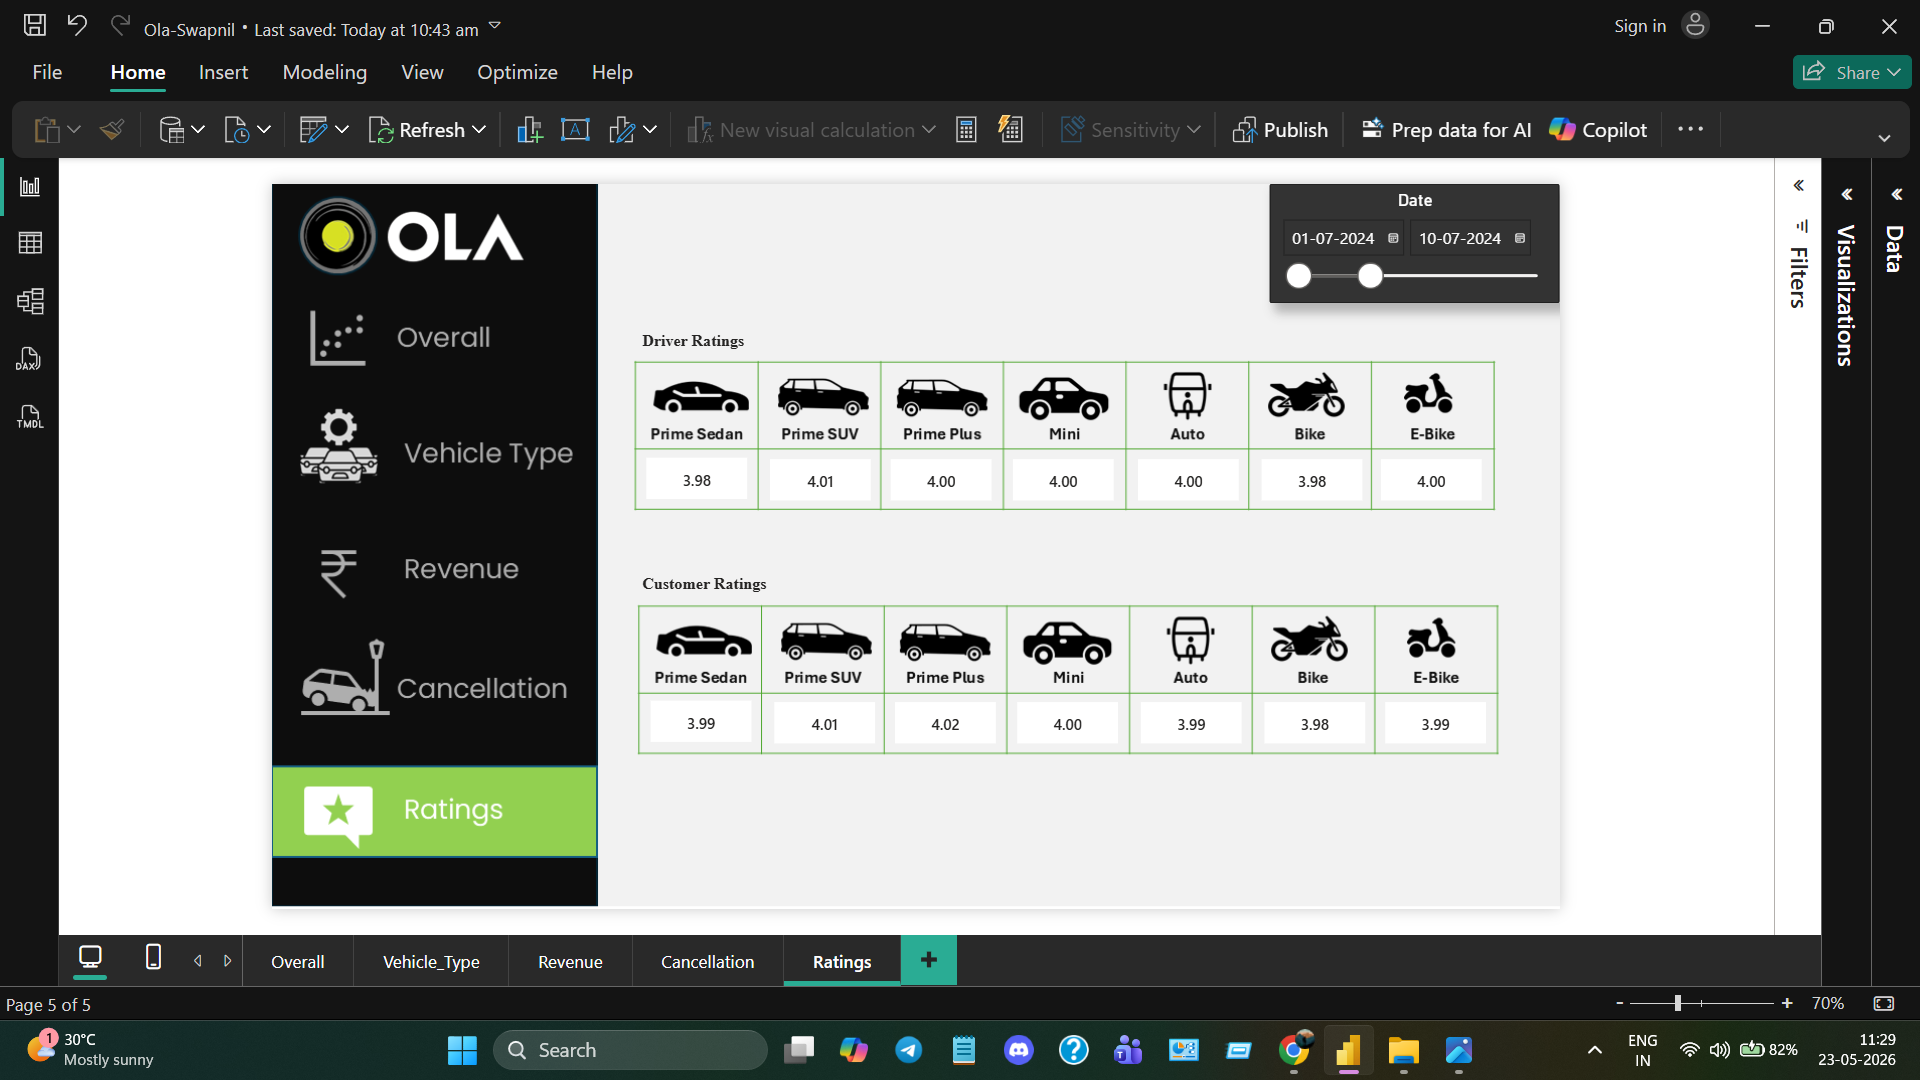

What the dashboard file says about the page in this screenshot:
{"tool":"powerbi","page":{"name":"Ratings","canvas":[1280,720],"ordinal":4},"visuals":[{"type":"actionButton","box":[0,222,322,89.8],"z":0},{"type":"actionButton","box":[0,337.3,322,89.8],"z":1000},{"type":"actionButton","box":[0,447.5,322,89.8],"z":2000},{"type":"actionButton","box":[0,110.2,322,89.8],"z":3000},{"type":"cardVisual","fields":{"Data":["Avg(July.Driver_Ratings)"]},"box":[367,267,110,51],"z":3001},{"type":"cardVisual","fields":{"Data":["Avg(July.Driver_Ratings)"]},"box":[490,268,110,51],"z":3002},{"type":"cardVisual","fields":{"Data":["Avg(July.Driver_Ratings)"]},"box":[610,267.9,110,51.4],"z":3003},{"type":"cardVisual","fields":{"Data":["Avg(July.Driver_Ratings)"]},"box":[731.4,267.9,110,51.4],"z":3004},{"type":"cardVisual","fields":{"Data":["Avg(July.Driver_Ratings)"]},"box":[855,267.9,110,51.4],"z":3005},{"type":"cardVisual","fields":{"Data":["Avg(July.Driver_Ratings)"]},"box":[977.9,267.9,110,51.4],"z":3006},{"type":"cardVisual","fields":{"Data":["Avg(July.Driver_Ratings)"]},"box":[1097.1,267.9,110,51.4],"z":3007},{"type":"cardVisual","fields":{"Data":["Avg(July.Customer_Rating)"]},"box":[371,508.6,110,51],"z":3008},{"type":"cardVisual","fields":{"Data":["Avg(July.Customer_Rating)"]},"box":[494,509.6,110,51],"z":3009},{"type":"cardVisual","fields":{"Data":["Avg(July.Customer_Rating)"]},"box":[614,509.4,110,51.4],"z":3010},{"type":"cardVisual","fields":{"Data":["Avg(July.Customer_Rating)"]},"box":[735.5,509.4,110,51.4],"z":3011},{"type":"cardVisual","fields":{"Data":["Avg(July.Customer_Rating)"]},"box":[859,509.4,110,51.4],"z":3012},{"type":"cardVisual","fields":{"Data":["Avg(July.Customer_Rating)"]},"box":[981.9,509.4,110,51.4],"z":3013},{"type":"cardVisual","fields":{"Data":["Avg(July.Customer_Rating)"]},"box":[1101.2,509.4,110,51.4],"z":3014},{"type":"textbox","box":[362.9,141.4,114.3,30],"z":3015},{"type":"textbox","box":[362.9,382.9,141.4,31.4],"z":3016},{"type":"slicer","title":"Date","fields":{"Values":["July.Date"]},"box":[991.7,0,288.3,118.3],"z":3017}]}

Visuals, with their boxes on the page's 1280x720 design canvas (x1, y1, x2, y2). These are canvas units, not pixel positions in the 1920x1080 screenshot, which may show the page scaled, cropped or inside an application window:
actionButton: select_region(0, 222, 322, 312)
actionButton: select_region(0, 337, 322, 427)
actionButton: select_region(0, 448, 322, 537)
actionButton: select_region(0, 110, 322, 200)
cardVisual - Avg(July.Driver_Ratings): select_region(367, 267, 477, 318)
cardVisual - Avg(July.Driver_Ratings): select_region(490, 268, 600, 319)
cardVisual - Avg(July.Driver_Ratings): select_region(610, 268, 720, 319)
cardVisual - Avg(July.Driver_Ratings): select_region(731, 268, 841, 319)
cardVisual - Avg(July.Driver_Ratings): select_region(855, 268, 965, 319)
cardVisual - Avg(July.Driver_Ratings): select_region(978, 268, 1088, 319)
cardVisual - Avg(July.Driver_Ratings): select_region(1097, 268, 1207, 319)
cardVisual - Avg(July.Customer_Rating): select_region(371, 509, 481, 560)
cardVisual - Avg(July.Customer_Rating): select_region(494, 510, 604, 561)
cardVisual - Avg(July.Customer_Rating): select_region(614, 509, 724, 561)
cardVisual - Avg(July.Customer_Rating): select_region(736, 509, 846, 561)
cardVisual - Avg(July.Customer_Rating): select_region(859, 509, 969, 561)
cardVisual - Avg(July.Customer_Rating): select_region(982, 509, 1092, 561)
cardVisual - Avg(July.Customer_Rating): select_region(1101, 509, 1211, 561)
textbox: select_region(363, 141, 477, 171)
textbox: select_region(363, 383, 504, 414)
"Date" slicer: select_region(992, 0, 1280, 118)
